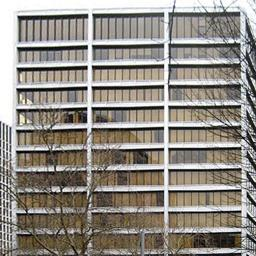building: (12, 0, 245, 256)
